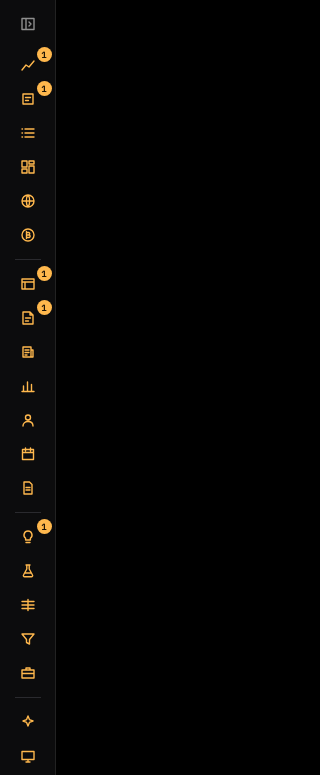
Test: Rail › collapses to an icon column with badges and opens a flyout
Click the button named "Chart · 1 open" at (28, 65), box [8,49,46,81]
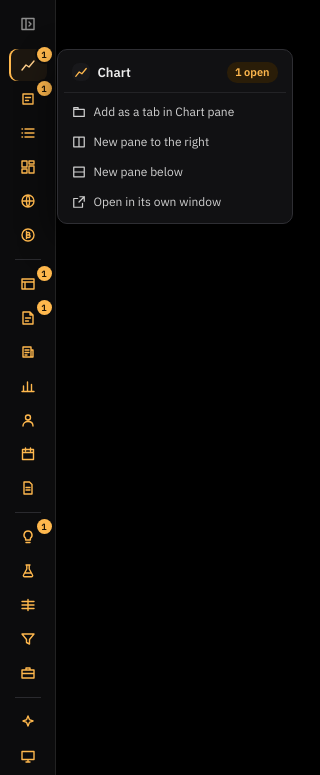
Expected: the menu named "Add Chart" is shown, [56,49,292,224]
Click the menu item "New pane to the right" at (174, 142), box [64,126,286,156]
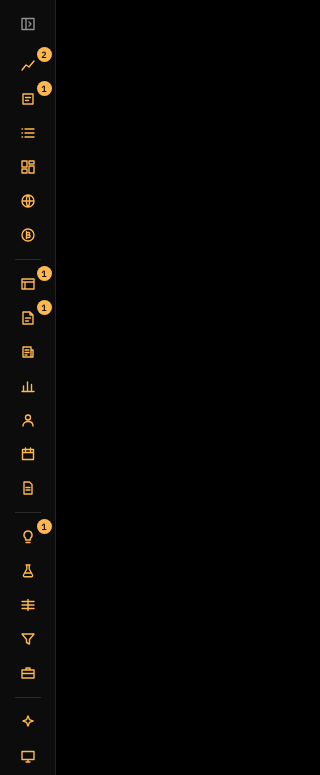
Expected: the menu is gone
